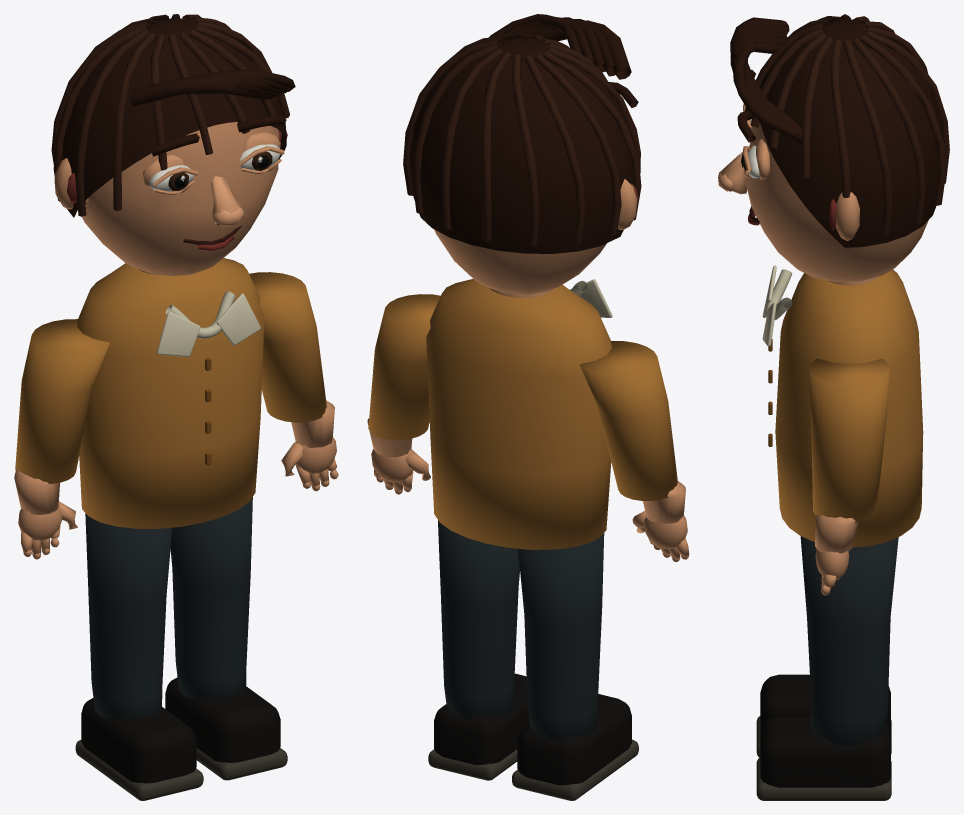
The model's file is patient-03.glb.
The picture shows the model from 3 angles, left to right: view 1: azimuth 30°, elevation 25°; view 2: azimuth 150°, elevation 25°; view 3: azimuth 270°, elevation 25°; orthographic projection.
Parts seen in each view (by area): view 1: Head, Body, LegL, LegR, ArmL, ArmR; view 2: Head, Body, LegL, LegR, ArmL, ArmR; view 3: Head, Body, LegR, ArmR, LegL.
Boxes of the visible parts, left/top/right/bottom form: Head: left=51, top=14, right=295, bottom=276; Body: left=77, top=258, right=264, bottom=528; LegL: left=75, top=513, right=203, bottom=800; LegR: left=165, top=497, right=287, bottom=780; ArmL: left=14, top=319, right=109, bottom=559; ArmR: left=249, top=272, right=338, bottom=491; Head: left=403, top=14, right=641, bottom=295; Body: left=426, top=279, right=612, bottom=549; LegL: left=512, top=533, right=638, bottom=800; LegR: left=428, top=520, right=529, bottom=780; ArmL: left=579, top=341, right=689, bottom=562; ArmR: left=367, top=294, right=440, bottom=494; Head: left=718, top=14, right=949, bottom=281; Body: left=762, top=265, right=923, bottom=547; LegR: left=756, top=536, right=898, bottom=800; ArmR: left=809, top=358, right=890, bottom=595; LegL: left=756, top=674, right=891, bottom=757.
Bounding box in the file's own units: 0.5949 × 1.32 × 0.3743.
